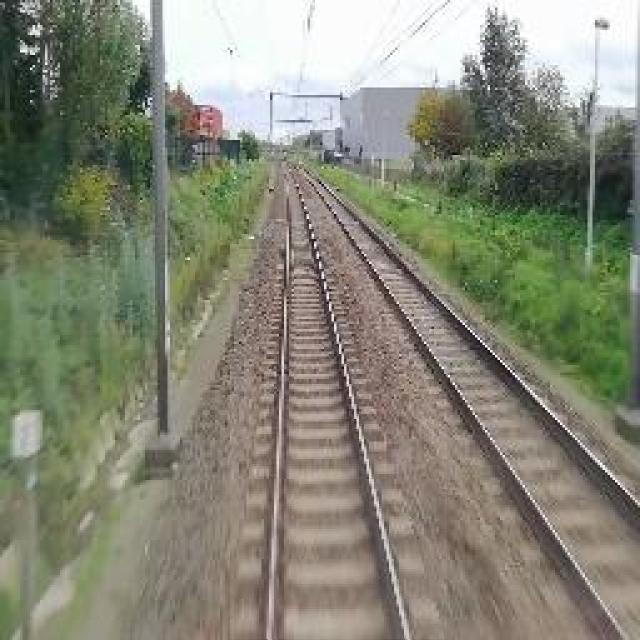rail: (232, 154, 448, 640)
